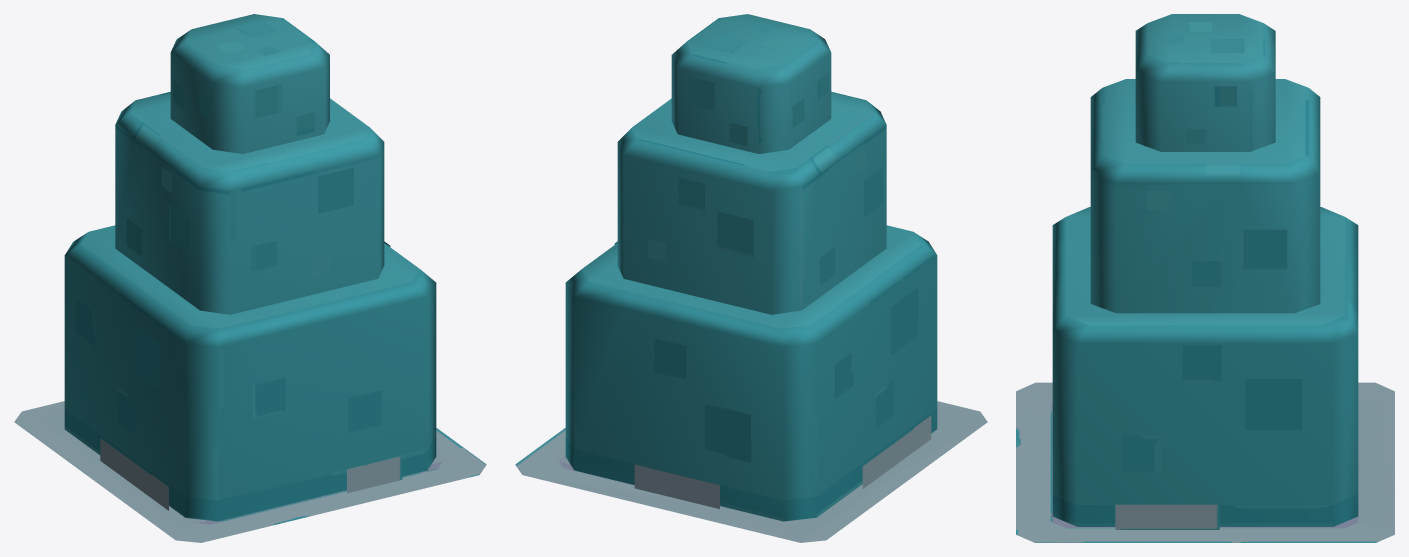
The model's file is B_mountain2_rock02.fbx.
3 renders of one model, left to right at view 1: azimuth 30°, elevation 25°; view 2: azimuth 150°, elevation 25°; view 3: azimuth 270°, elevation 25°, orthographic. The views are drawn at different scales.
Visible parts, largest first — view 1: model 1, model; view 2: model 1, model; view 3: model 1, model.
Boxes of the visible parts, <box> form: model 1: <box>15,14,486,542</box>; model: <box>14,401,485,542</box>; model 1: <box>516,14,986,542</box>; model: <box>515,401,987,542</box>; model 1: <box>1016,14,1394,542</box>; model: <box>1016,382,1394,542</box>.
Size of the model in its own units: 4.96 by 6.16 by 4.96.
Materials: 1 (1 with a texture image).
